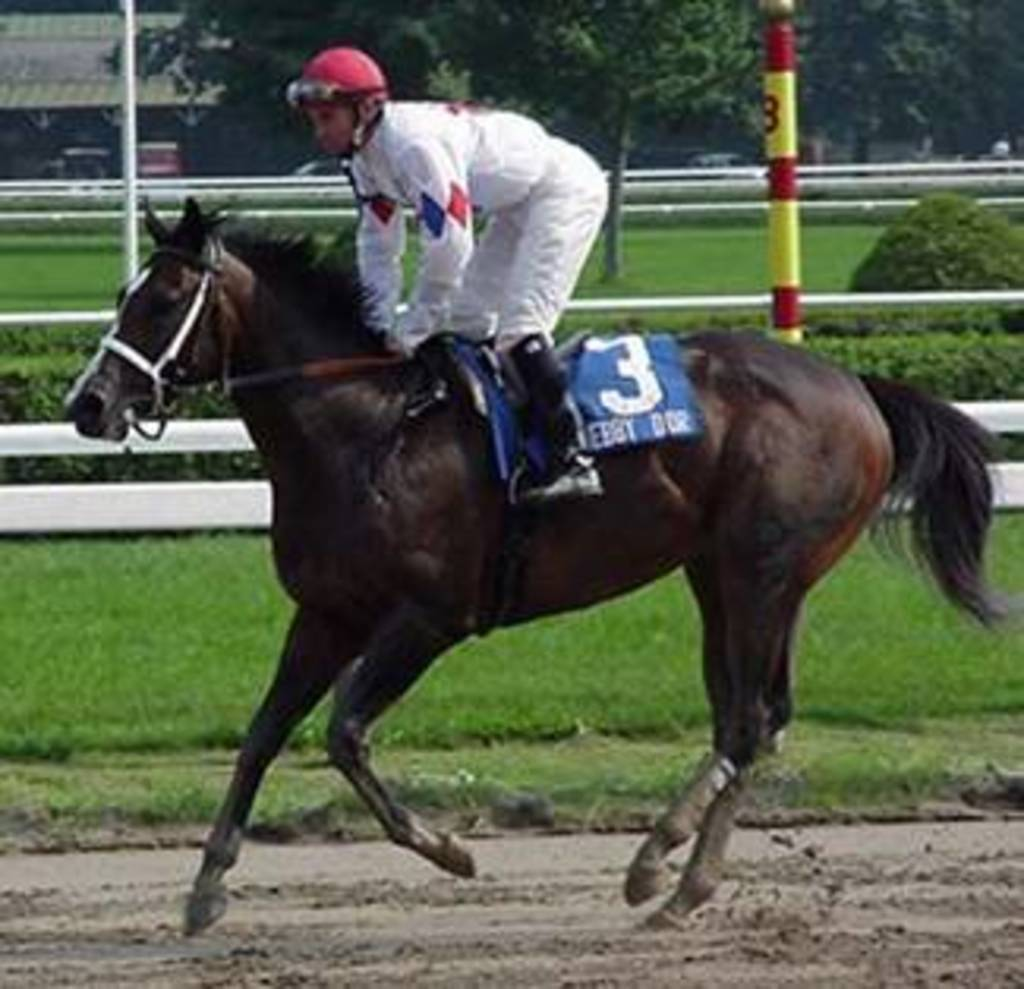horse: (62, 195, 1009, 935)
